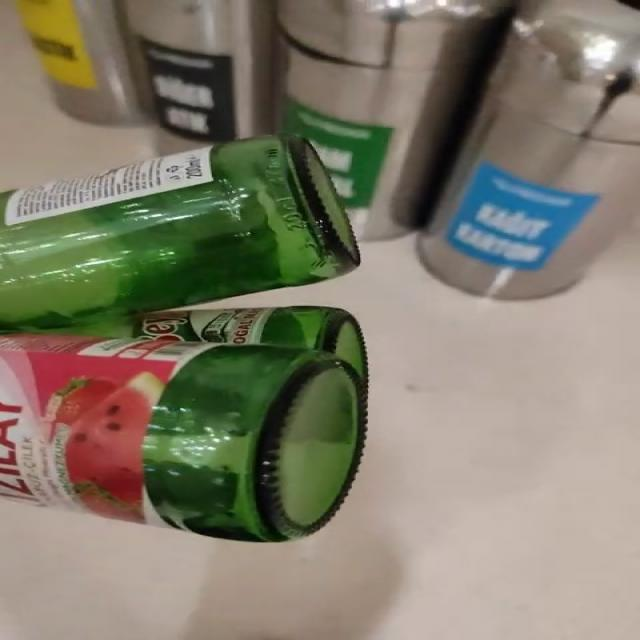glass: (0, 135, 368, 543)
